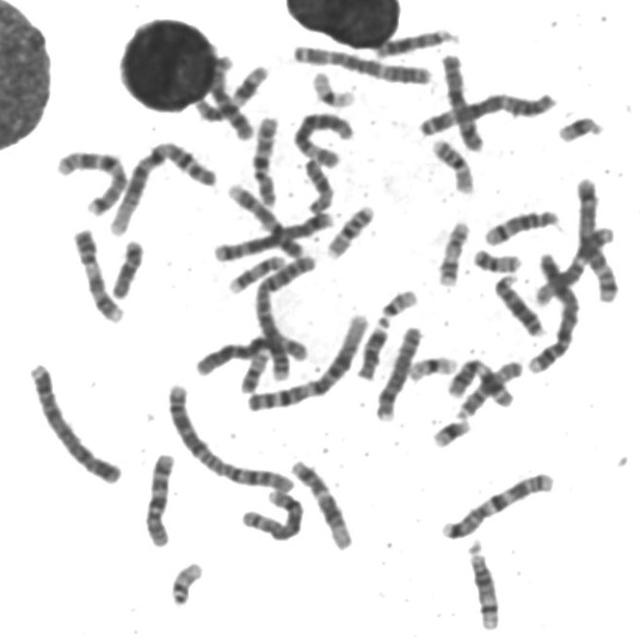A1: (239, 307, 371, 413), (103, 134, 218, 238)
A2: (162, 378, 300, 495), (250, 249, 320, 384)
A3: (413, 85, 560, 138), (286, 39, 434, 86)
B4: (23, 357, 124, 486), (522, 247, 582, 375)
B5: (208, 207, 336, 262), (570, 171, 622, 304)
C10: (139, 448, 177, 550), (248, 110, 281, 210)
C11: (190, 59, 271, 124), (445, 357, 517, 414)
C12: (529, 221, 618, 308), (285, 454, 356, 551)
C6: (190, 328, 310, 379), (287, 107, 357, 169)
C7: (436, 466, 556, 541), (50, 143, 130, 218)
C8: (369, 320, 426, 422), (235, 483, 306, 542)
C9: (224, 180, 306, 260), (66, 222, 126, 325)
D13: (489, 269, 548, 339), (368, 22, 457, 59)
D14: (462, 534, 503, 632), (479, 204, 562, 247)
D15: (450, 354, 525, 420), (300, 153, 336, 214)
E16: (321, 200, 377, 260), (427, 132, 477, 195)
E17: (224, 250, 288, 295), (433, 215, 472, 288)
E18: (105, 233, 146, 300), (353, 318, 391, 382)
F19: (306, 66, 358, 110), (403, 350, 459, 383)
F20: (235, 345, 272, 395), (468, 243, 524, 274)
G21: (552, 110, 606, 144), (427, 413, 473, 449)
G22: (166, 557, 205, 608), (373, 284, 420, 326)
X: (436, 48, 486, 154)
